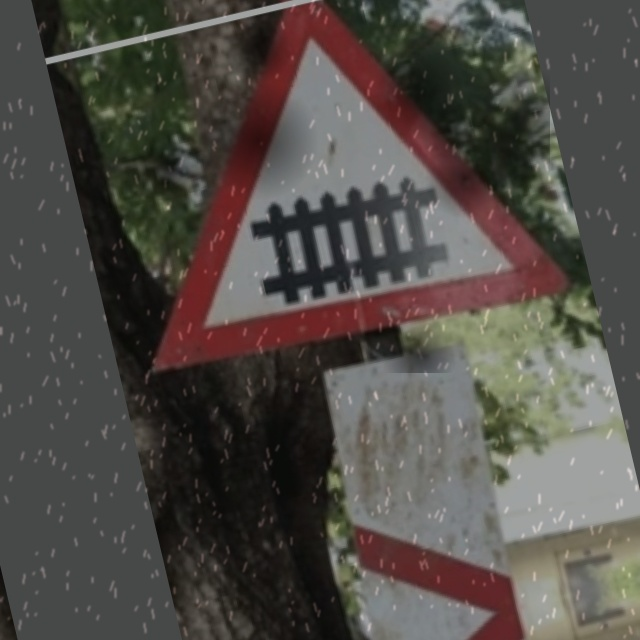Guarded_Level_Crossing: (103, 1, 550, 373)
